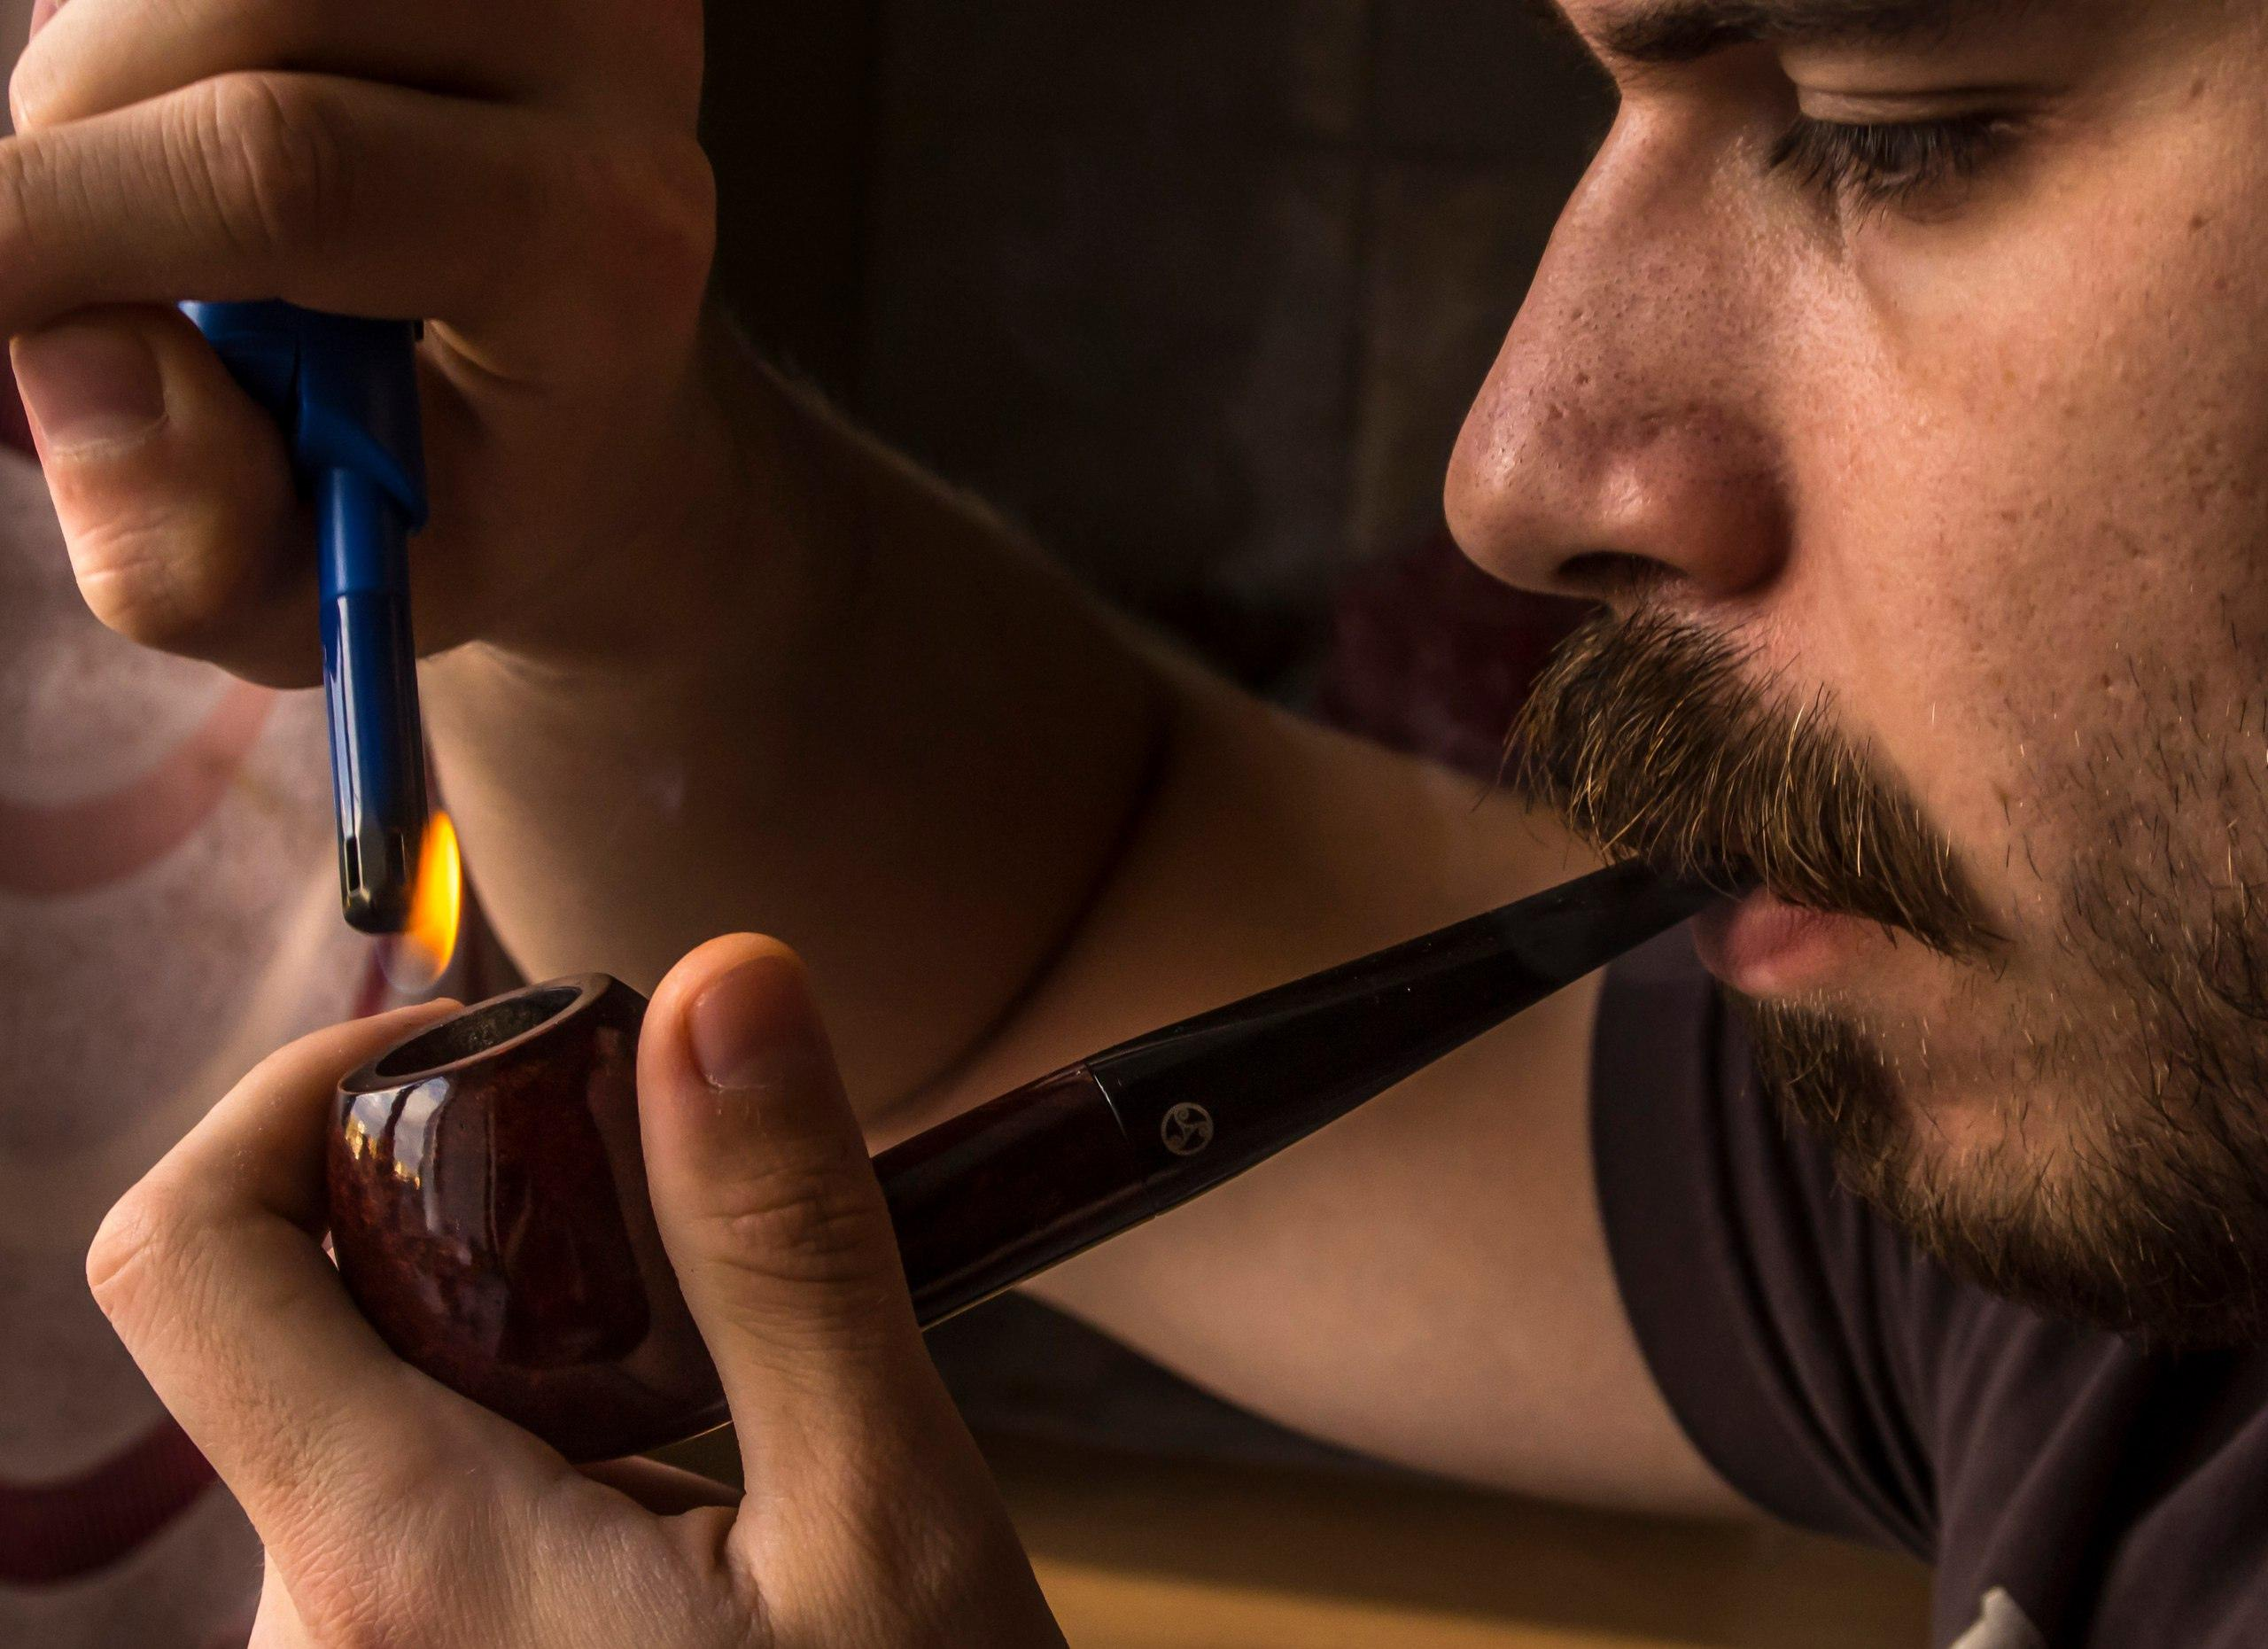trubka: (333, 835, 1761, 1468)
